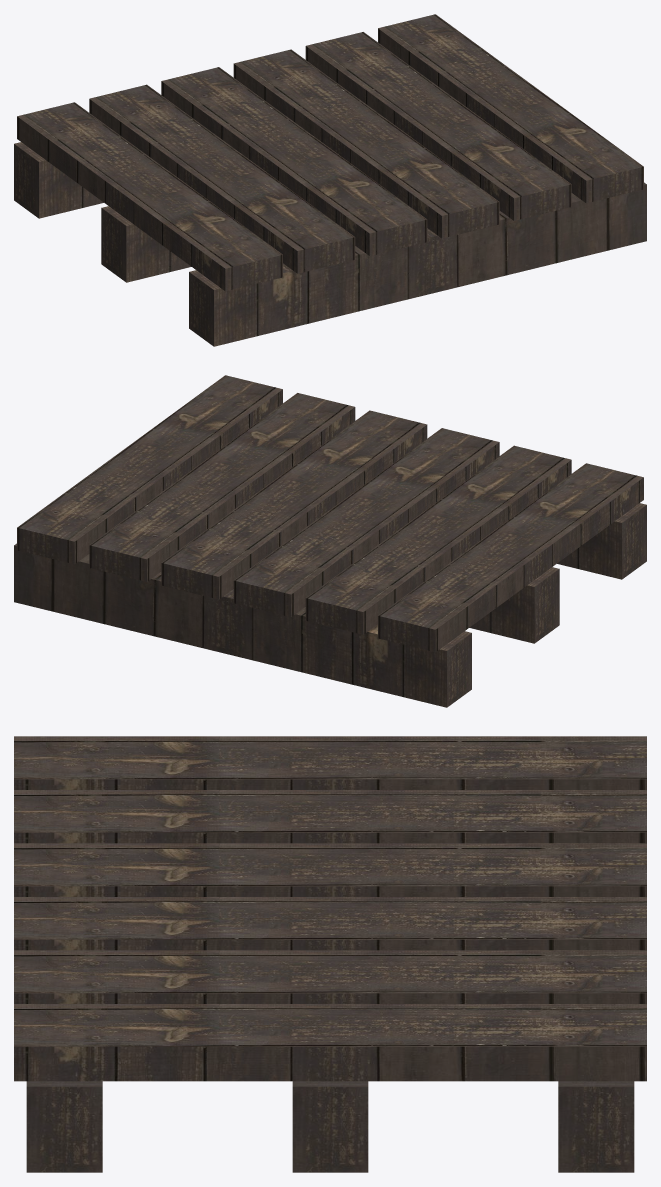
File: cargo_pallet.glb
3 views of the same model, one above another, from view 1: azimuth 30°, elevation 25°; view 2: azimuth 150°, elevation 25°; view 3: azimuth 270°, elevation 25° (orthographic). The views are drawn at different scales.
Parts seen in each view (by area): view 1: Pallet_runner_-0.42, Pallet_top_plank_0, Pallet_top_plank_3, Pallet_top_plank_4, Pallet_top_plank_1, Pallet_top_plank_2, Pallet_top_plank_5, Pallet_runner_0, Pallet_runner_0.42; view 2: Pallet_runner_0.42, Pallet_top_plank_0, Pallet_top_plank_3, Pallet_top_plank_4, Pallet_top_plank_1, Pallet_top_plank_2, Pallet_top_plank_5, Pallet_runner_0, Pallet_runner_-0.42; view 3: Pallet_top_plank_5, Pallet_top_plank_0, Pallet_top_plank_1, Pallet_top_plank_2, Pallet_top_plank_3, Pallet_top_plank_4, Pallet_runner_-0.42, Pallet_runner_0, Pallet_runner_0.42.
Boxes of the visible parts, x1,y1,x2,y2 form: Pallet_runner_-0.42: (189, 182, 646, 346); Pallet_top_plank_0: (17, 102, 282, 291); Pallet_top_plank_3: (233, 49, 499, 238); Pallet_top_plank_4: (305, 32, 571, 220); Pallet_top_plank_1: (89, 84, 355, 273); Pallet_top_plank_2: (161, 67, 427, 255); Pallet_top_plank_5: (378, 14, 643, 203); Pallet_runner_0: (101, 206, 191, 282); Pallet_runner_0.42: (14, 142, 103, 218); Pallet_runner_0.42: (14, 543, 471, 707); Pallet_top_plank_0: (378, 463, 643, 652); Pallet_top_plank_3: (161, 410, 427, 599); Pallet_top_plank_4: (89, 393, 355, 581); Pallet_top_plank_1: (305, 445, 571, 634); Pallet_top_plank_2: (233, 428, 499, 616); Pallet_top_plank_5: (17, 375, 282, 564); Pallet_runner_0: (469, 567, 559, 643); Pallet_runner_-0.42: (557, 503, 646, 579); Pallet_top_plank_5: (14, 1004, 646, 1081); Pallet_top_plank_0: (14, 736, 646, 789); Pallet_top_plank_1: (14, 790, 646, 843); Pallet_top_plank_2: (14, 843, 646, 896); Pallet_top_plank_3: (14, 897, 646, 950); Pallet_top_plank_4: (14, 950, 646, 1003); Pallet_runner_-0.42: (26, 1081, 102, 1172); Pallet_runner_0: (292, 1081, 368, 1172); Pallet_runner_0.42: (558, 1081, 634, 1172).
Bounding box in the file's own units: 1.2 × 0.21 × 1.
1 material, 1 textured.
